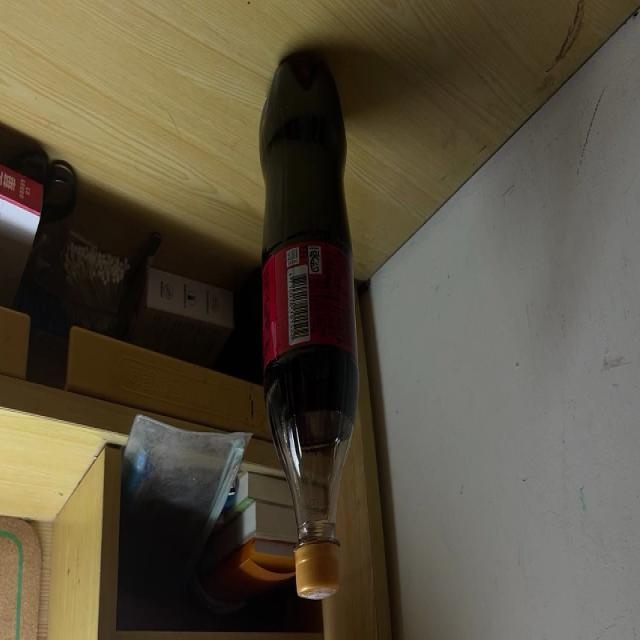Coca-Cola: (257, 53, 358, 596)
